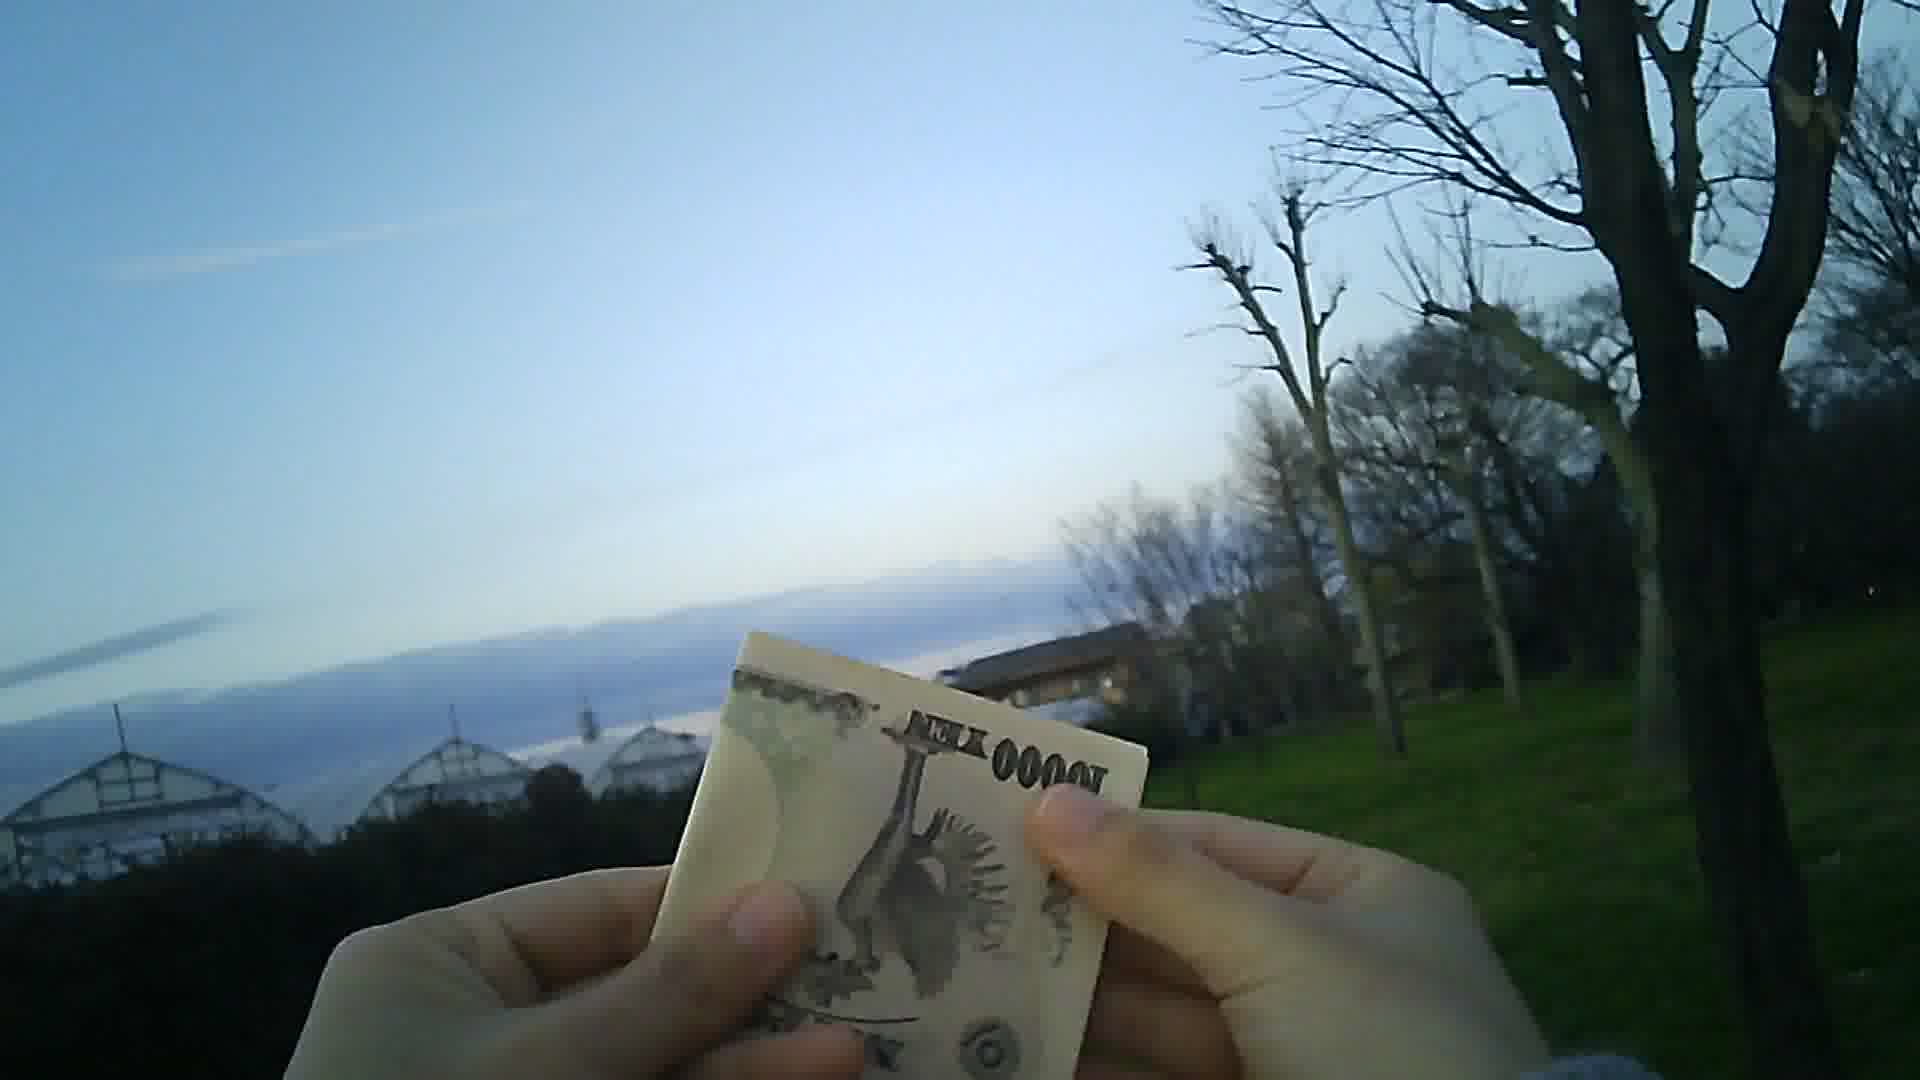10,000 Yen: (644, 622, 1182, 1079)
